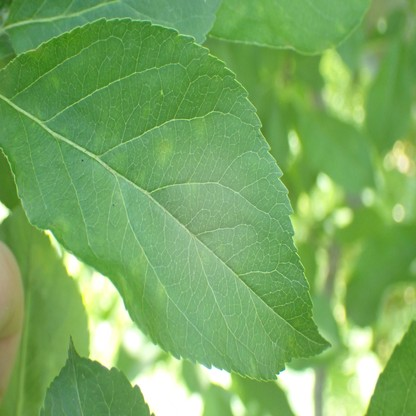scab: (93, 128, 125, 173), (117, 273, 134, 308), (129, 259, 145, 295), (50, 216, 69, 243), (193, 118, 210, 141), (157, 135, 170, 163), (135, 168, 146, 186), (50, 72, 61, 90), (157, 283, 163, 302), (288, 336, 294, 349)
